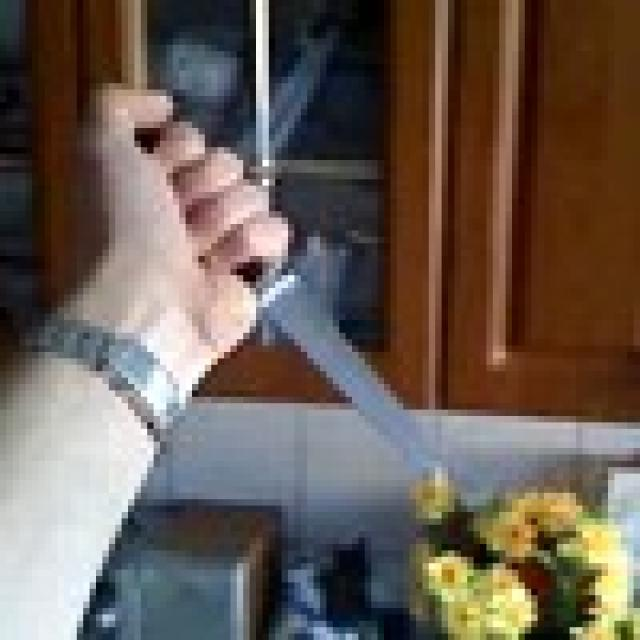Knife: (134, 121, 436, 474)
